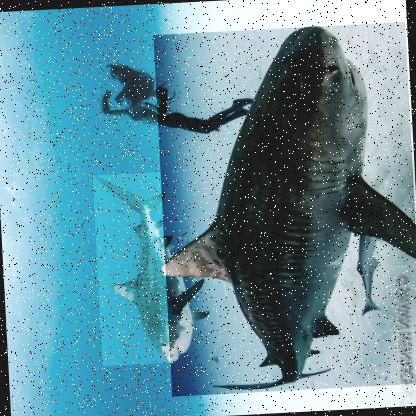tiger-shark: (152, 20, 415, 397), (92, 168, 213, 366)
